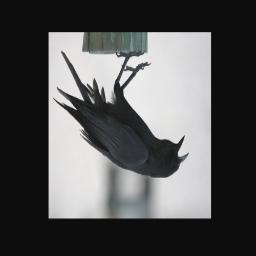Crow: (53, 49, 189, 179)
